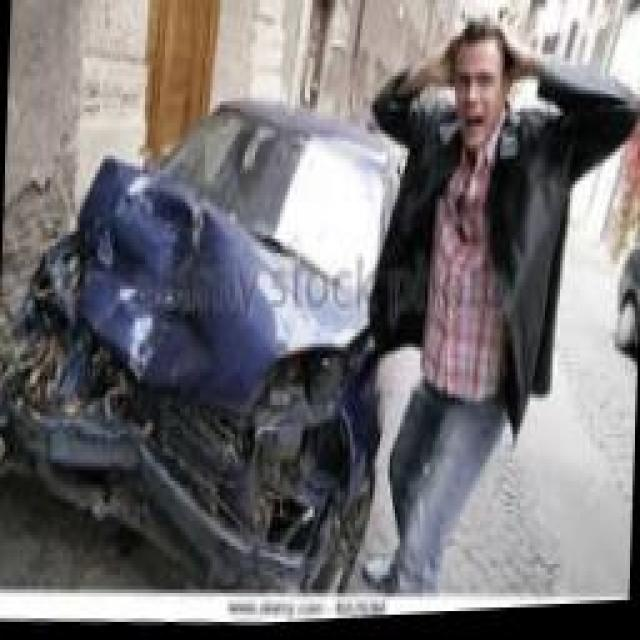Bonnet: (72, 161, 372, 400)
Bumper: (4, 330, 343, 597)
Light: (253, 361, 351, 420), (29, 245, 77, 343)
